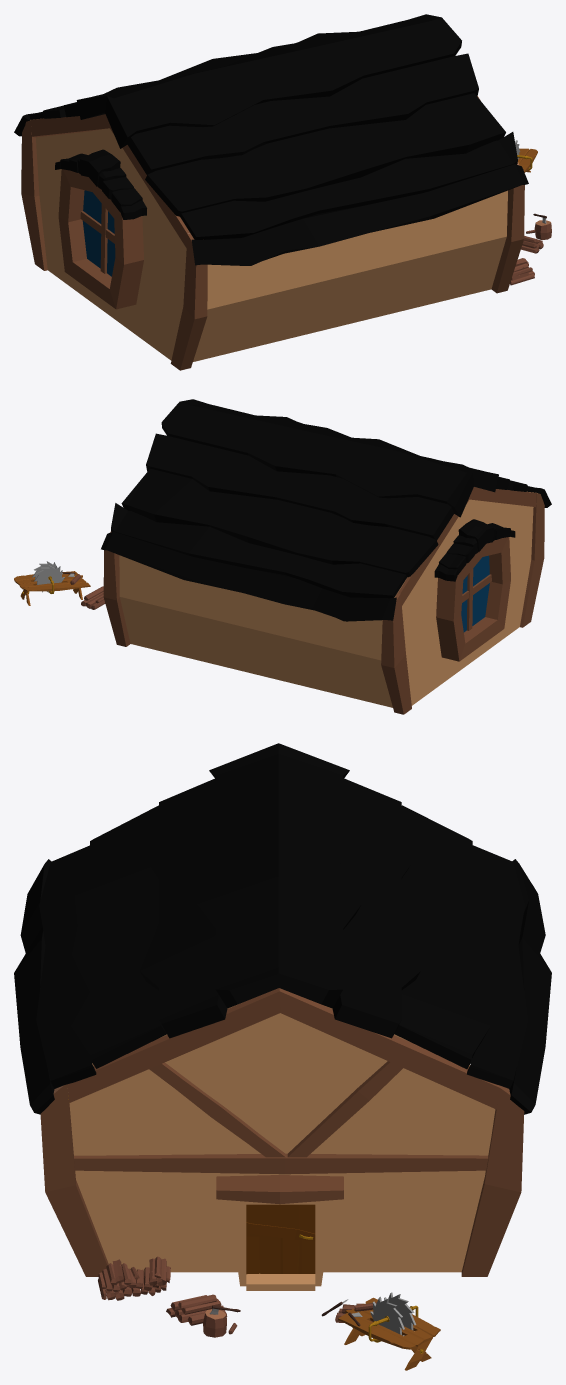
File: WoodcutterHut.fbx
3 renders of one model, top to bottom at view 1: azimuth 30°, elevation 25°; view 2: azimuth 150°, elevation 25°; view 3: azimuth 270°, elevation 25°, orthographic. The views are drawn at different scales.
Visible parts, largest first — view 1: Hut; view 2: Hut; view 3: Hut.
Part boxes in pixels (x1=…): Hut: x1=14, y1=14, x2=551, y2=370; Hut: x1=14, y1=399, x2=551, y2=714; Hut: x1=14, y1=743, x2=551, y2=1370.
Size of the model in its own units: 183 by 80.08 by 125.
